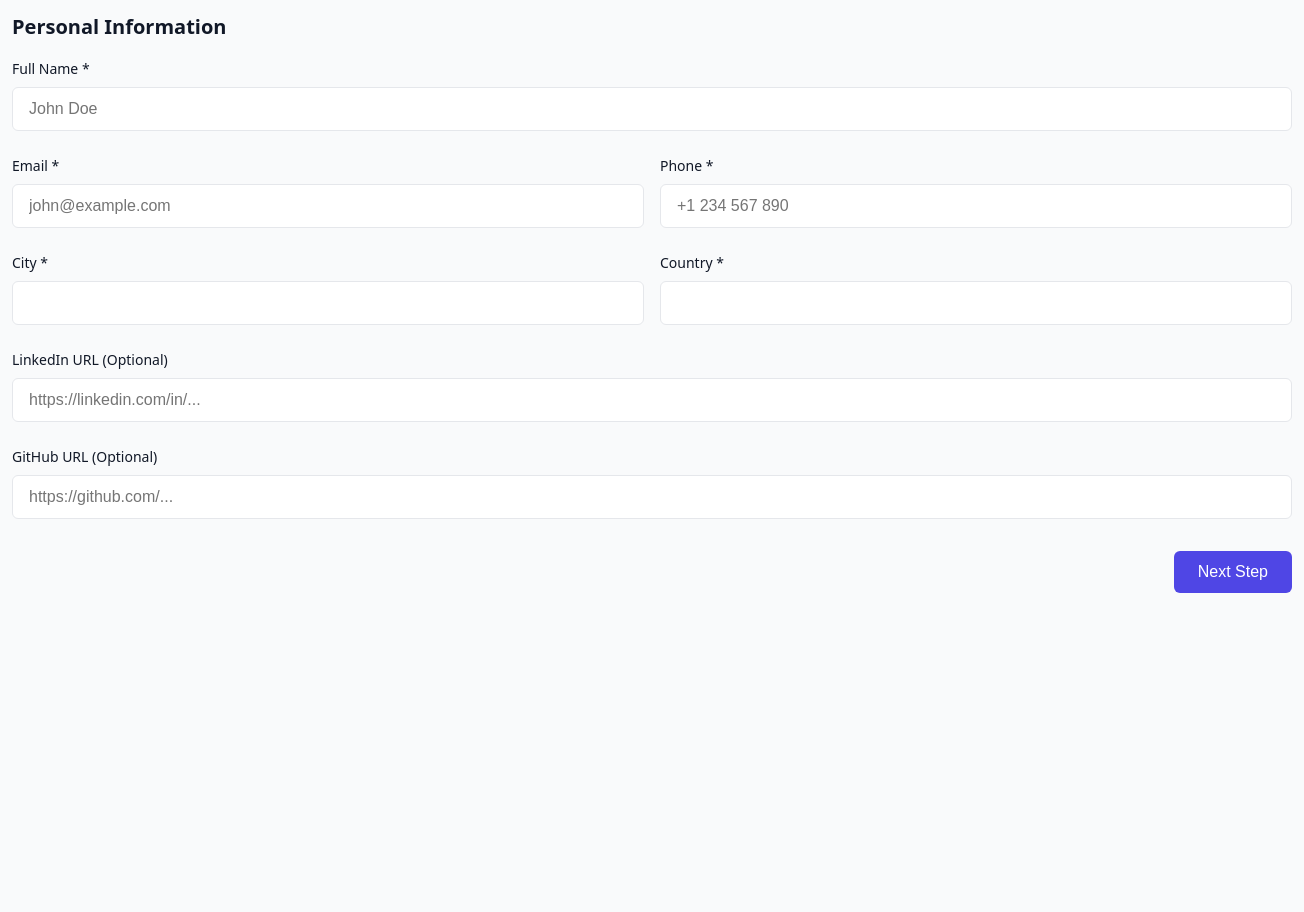
Test case: Step1_PersonalInfo › should show error for invalid email
In the field labelled "Email *": {"x": 328, "y": 206} [12,184,644,228], type "invalid-email"
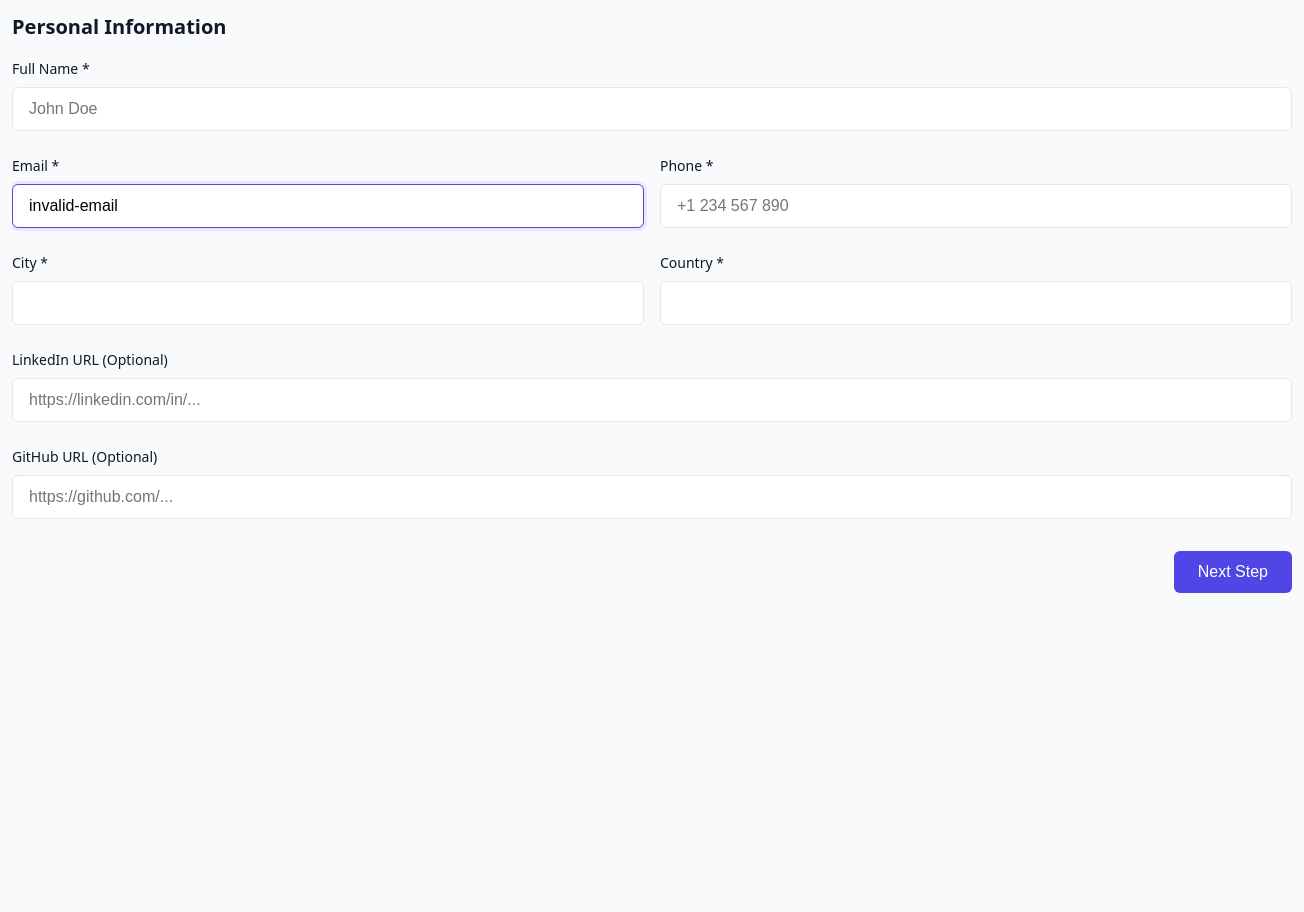
Click the button "Next Step": {"x": 1233, "y": 572} [1174,551,1292,593]
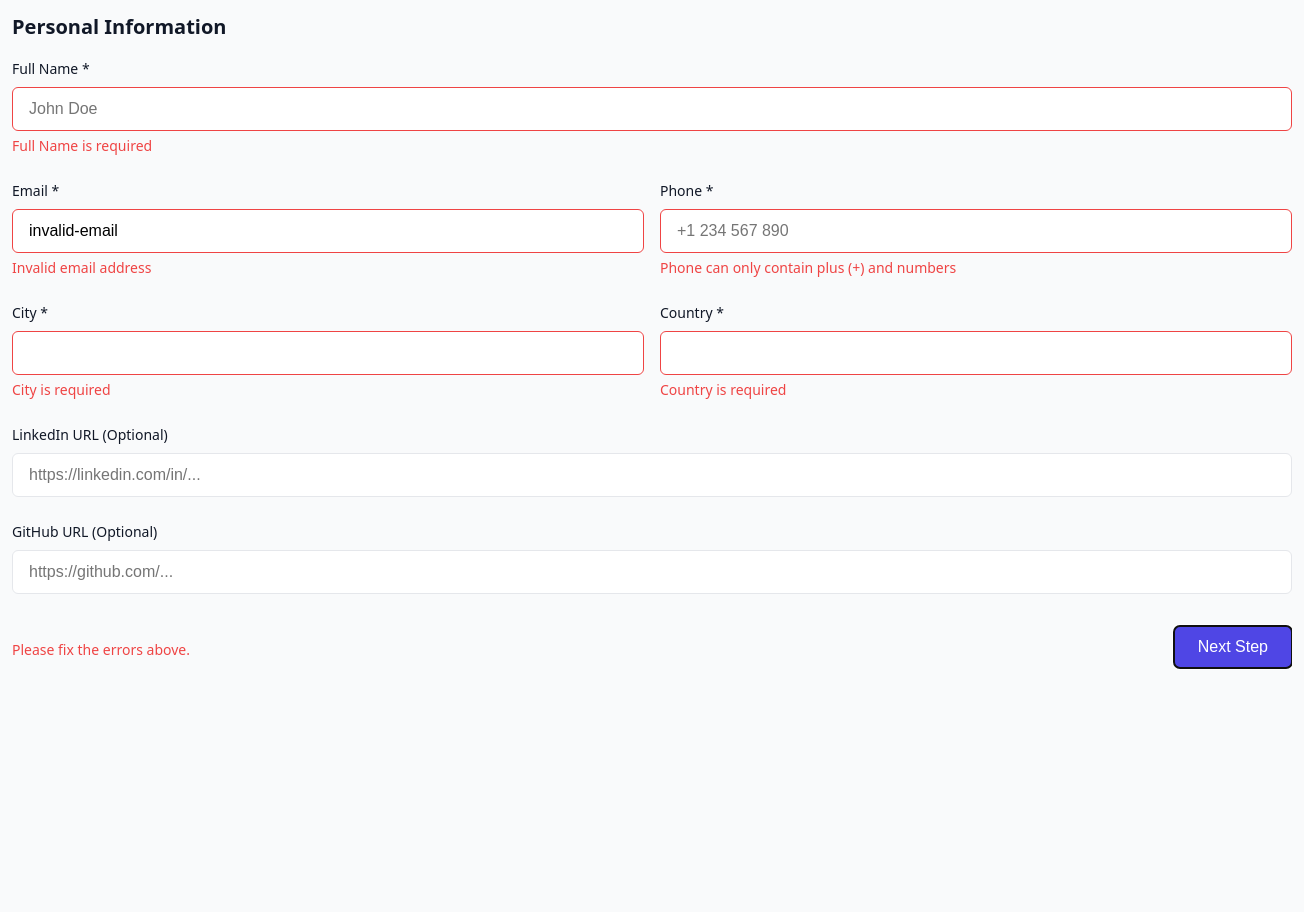
Expected: the text "Invalid email address" is shown, [12,258,151,277]
